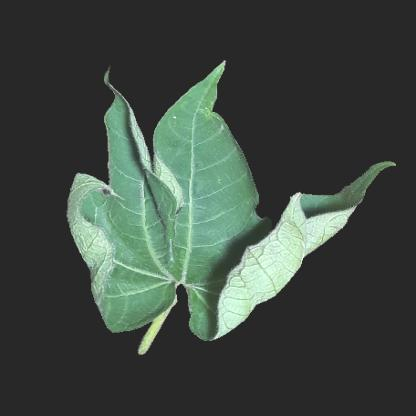curl_stage2: (213, 239, 263, 321), (95, 190, 139, 278), (127, 152, 189, 183), (267, 222, 307, 266), (308, 215, 348, 241)
healthy: (189, 156, 249, 224), (105, 287, 167, 319), (157, 121, 224, 142)
